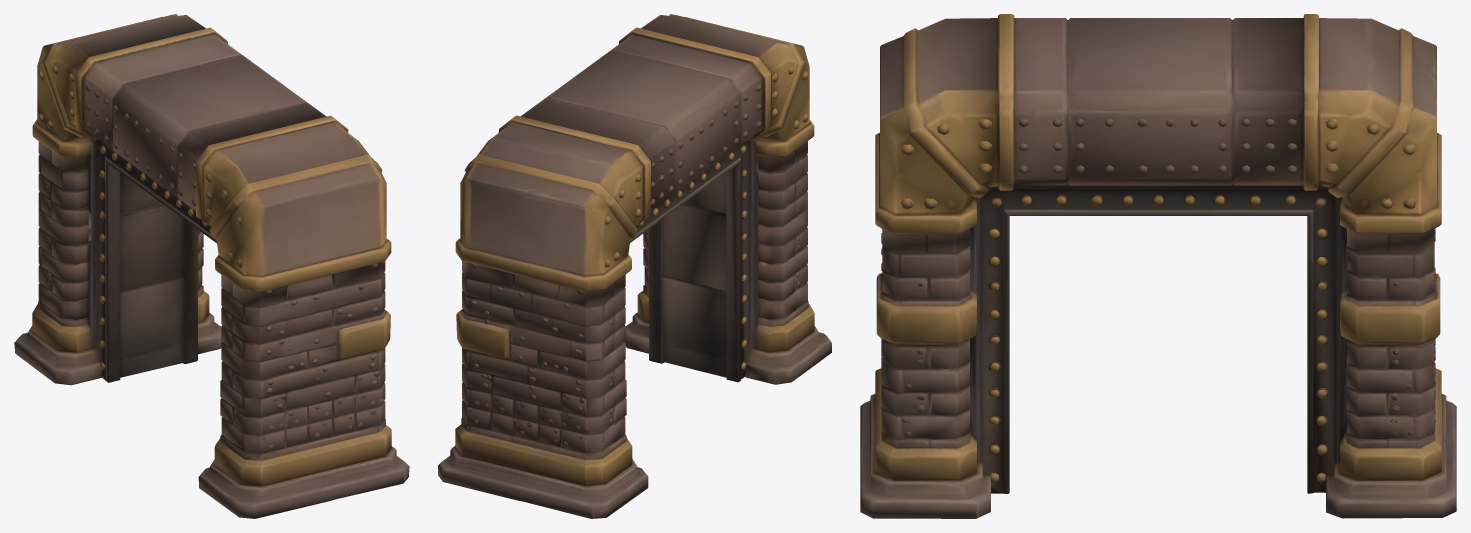
File: tripo_raw.glb
3 renders of one model, left to right at view 1: azimuth 30°, elevation 25°; view 2: azimuth 150°, elevation 25°; view 3: azimuth 270°, elevation 25°, orthographic. The views are drawn at different scales.
Visible parts, largest first — view 1: tripo_node_469c348e-0831-4f20-a20d-5859b2a0bab2; view 2: tripo_node_469c348e-0831-4f20-a20d-5859b2a0bab2; view 3: tripo_node_469c348e-0831-4f20-a20d-5859b2a0bab2.
Part boxes in pixels (<box>): tripo_node_469c348e-0831-4f20-a20d-5859b2a0bab2: <box>14,14,409,518</box>; tripo_node_469c348e-0831-4f20-a20d-5859b2a0bab2: <box>438,14,831,518</box>; tripo_node_469c348e-0831-4f20-a20d-5859b2a0bab2: <box>860,14,1456,518</box>.
Bounding box in the file's own units: 0.4168 × 0.7671 × 1.
1 material, 1 textured.
